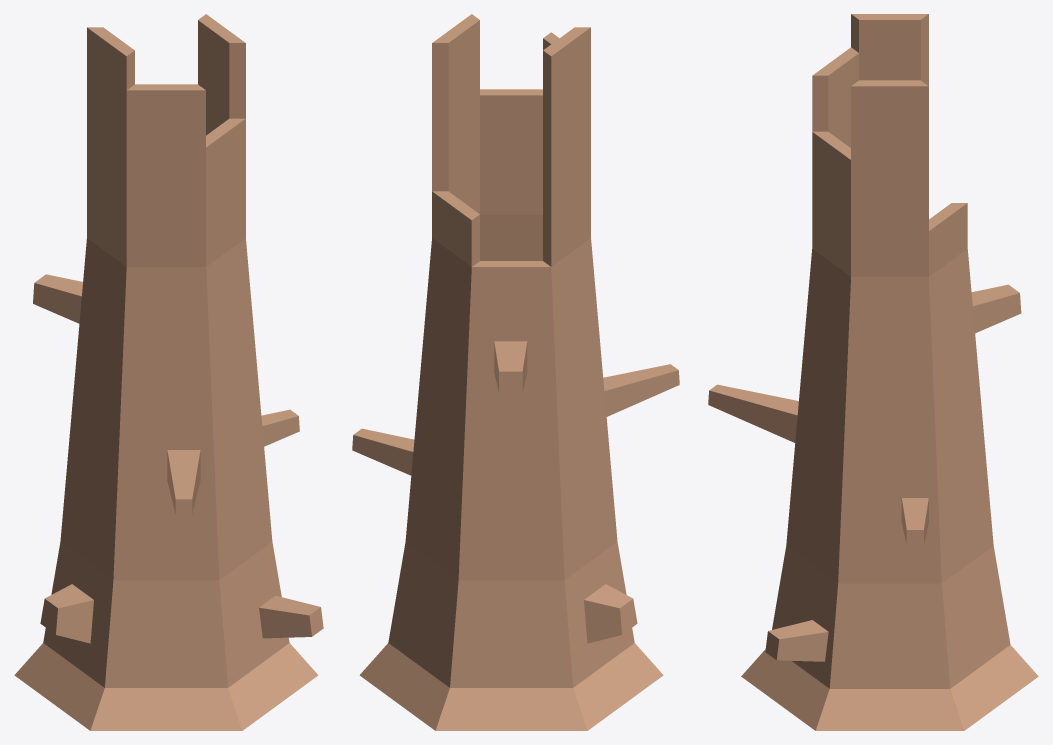
File: trunkLong.glb
3 renders of one model, left to right at view 1: azimuth 30°, elevation 25°; view 2: azimuth 150°, elevation 25°; view 3: azimuth 270°, elevation 25°, orthographic. The views are drawn at different scales.
Parts seen in each view (by area): view 1: trunkLong; view 2: trunkLong; view 3: trunkLong.
Boxes of the visible parts, x1,y1,x2,y2 form: trunkLong: [14, 14, 323, 730]; trunkLong: [352, 14, 679, 730]; trunkLong: [708, 14, 1038, 730].
Bounding box in the file's own units: 0.5442 × 1.29 × 0.6118.
